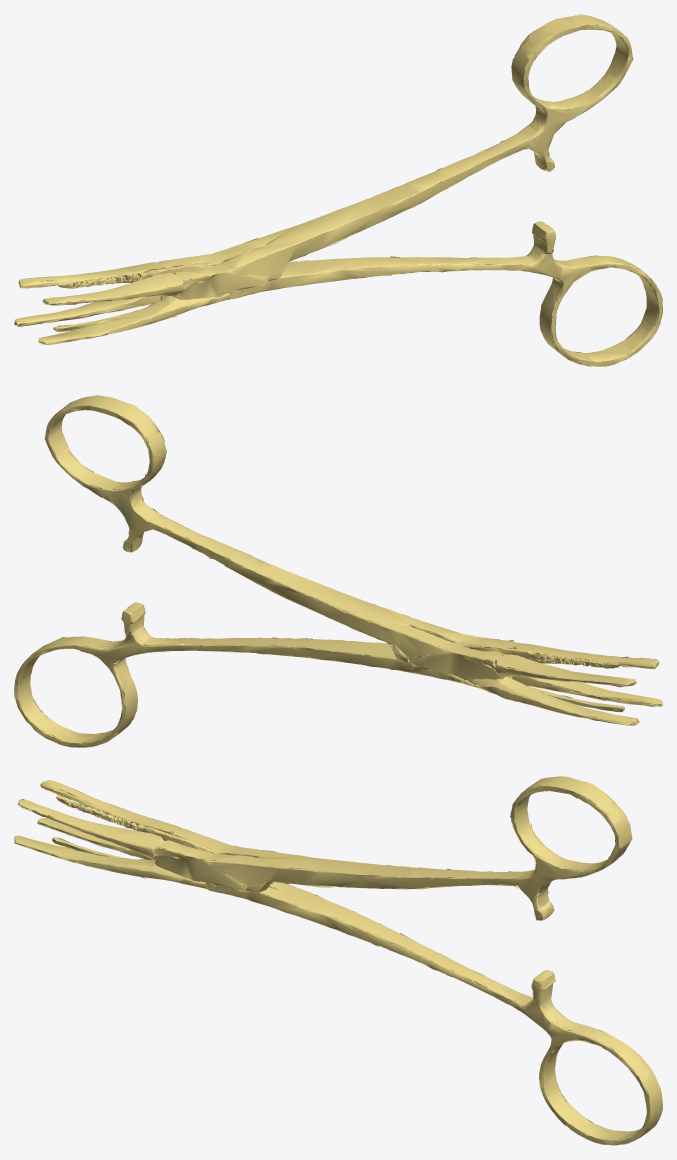
Rendered from equip_cardio_pean_forceps_verified.glb.
3 views of the same model, one above another, from view 1: azimuth 30°, elevation 25°; view 2: azimuth 150°, elevation 25°; view 3: azimuth 330°, elevation 25° (orthographic).
Parts seen in each view (by area): view 1: world; view 2: world; view 3: world.
Boxes of the visible parts, x1,y1,x2,y2 form: world: (14, 14, 662, 366); world: (14, 395, 662, 747); world: (14, 776, 662, 1145).
Bounding box in the file's own units: 0.1801 × 0.095 × 0.0168.
